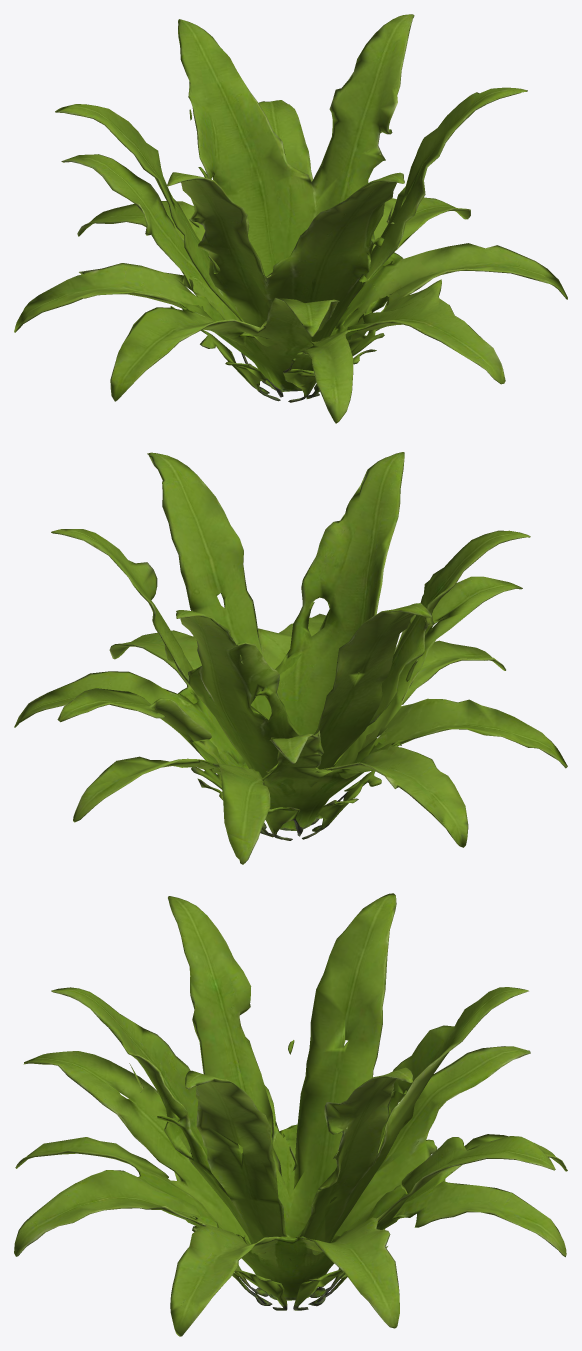
The model's file is plant_fern.glb.
The picture shows the model from 3 angles, top to bottom: view 1: azimuth 30°, elevation 25°; view 2: azimuth 150°, elevation 25°; view 3: azimuth 270°, elevation 25°; orthographic projection. The views are drawn at different scales.
Visible parts, largest first — view 1: Java Vern Narrow; view 2: Java Vern Narrow; view 3: Java Vern Narrow.
Part boxes in pixels (bbox=[...]): Java Vern Narrow: bbox=[14, 14, 567, 423]; Java Vern Narrow: bbox=[14, 452, 567, 864]; Java Vern Narrow: bbox=[14, 893, 567, 1336].
Bounding box in the file's own units: 1.6 × 0.9998 × 1.6.
Materials: 1 (1 with a texture image).
